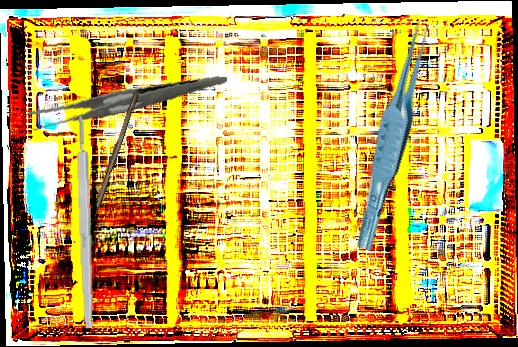Dressing Forceps: (25, 57, 228, 150)
Scalpel Handle: (93, 92, 139, 209), (75, 115, 95, 329)
Tissue Forceps: (339, 17, 449, 252)
